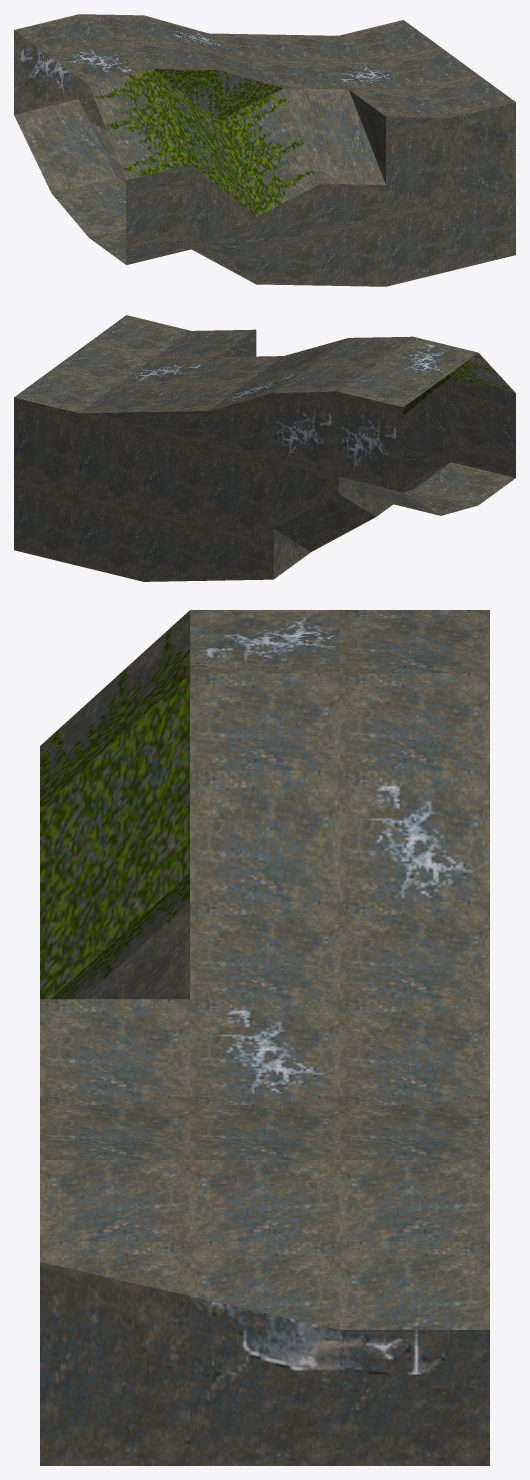
File: room07.obj
3 renders of one model, top to bottom at view 1: azimuth 30°, elevation 25°; view 2: azimuth 150°, elevation 25°; view 3: azimuth 270°, elevation 25°, orthographic. The views are drawn at different scales.
Visible parts, largest first — view 1: 01-Caves.007; view 2: 01-Caves.007; view 3: 01-Caves.007.
Boxes of the visible parts, x1,y1,x2,y2 form: 01-Caves.007: (14,14,515,286); 01-Caves.007: (14,315,515,581); 01-Caves.007: (40,610,489,1465).
Size of the model in its own units: 60 by 35 by 30.
Materials: 1 (1 with a texture image).
